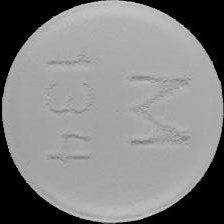43063-174: (0, 0, 224, 224)
